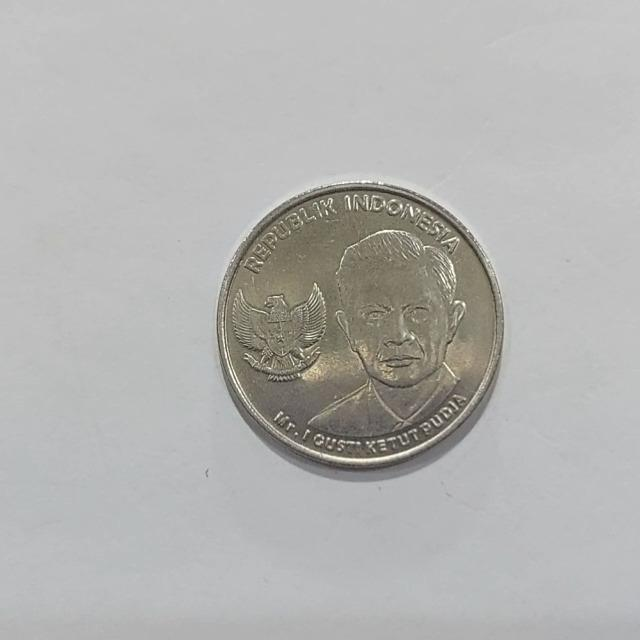Rp100: (215, 178, 505, 471), (300, 226, 470, 443)
